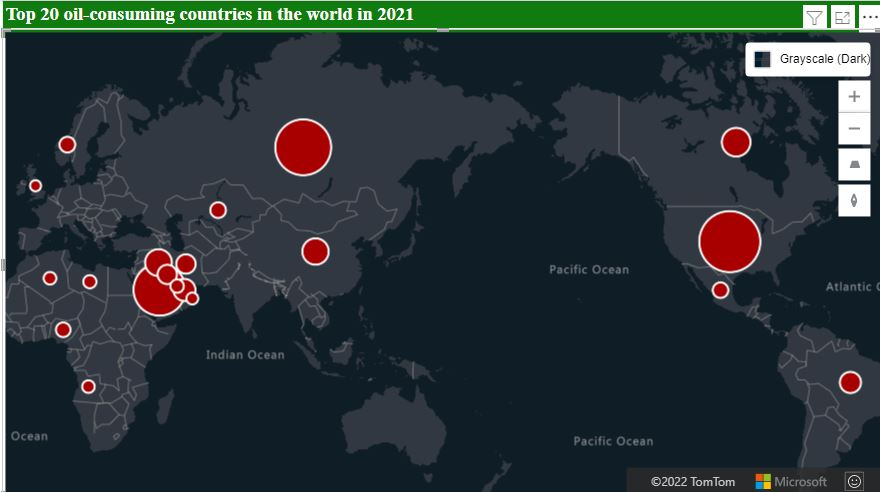

Layout of this report page (visuals, bound fields, positions):
{"tool":"powerbi","page":{"name":"Top 20 oil Consuming ","canvas":[1280,720],"ordinal":2},"visuals":[{"type":"shape","box":[10.1,0,1270.1,54.7],"z":0},{"type":"textbox","box":[10.1,0,1269.9,42],"z":1000},{"type":"azureMap","fields":{"Category":["Oil Producer.Country"],"Size":["Sum(Oil Producer.Oil production (Barrels per day))"]},"box":[10.1,42,1269.9,678.6],"z":2000}]}

Visuals, with their boxes in screenshot pixels (x1, y1, x2, y2), scaled from the page's 1280x720 canvas onto the 880x492 screenshot:
shape: locate(7, 0, 879, 37)
textbox: locate(7, 0, 879, 29)
azureMap - Oil Producer.Country x Sum(Oil Producer.Oil production (Barrels per day)): locate(7, 29, 879, 491)
